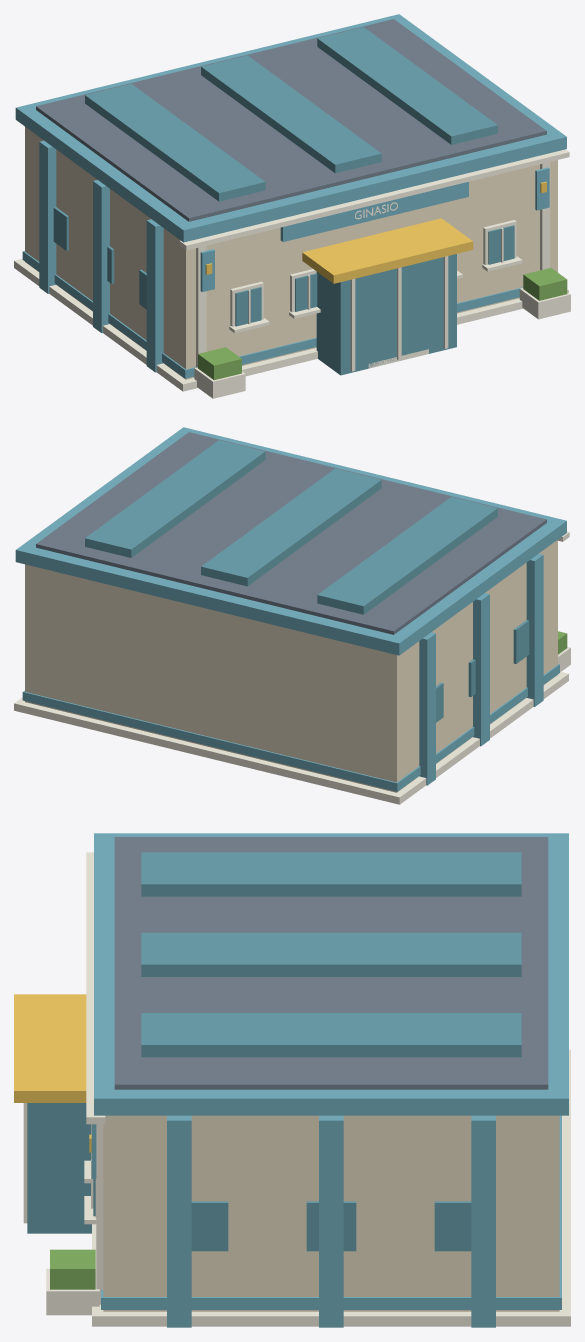
The model's file is ginasio.glb.
3 renders of one model, top to bottom at view 1: azimuth 30°, elevation 25°; view 2: azimuth 150°, elevation 25°; view 3: azimuth 270°, elevation 25°, orthographic. The views are drawn at different scales.
Parts seen in each view (by area): view 1: Foundation; view 2: Foundation; view 3: Foundation.
Part boxes in pixels (box(x1,y1,x2,y2)): Foundation: box(14, 14, 570, 398); Foundation: box(14, 427, 570, 804); Foundation: box(14, 833, 570, 1327).
Size of the model in its own units: 16.7 by 7.1 by 14.65.
